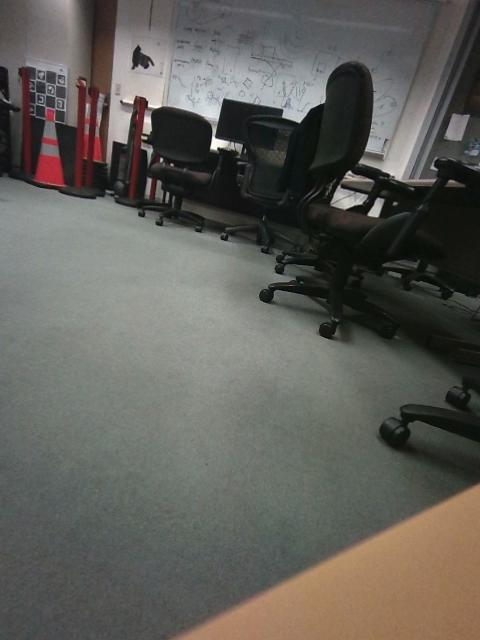block: (14, 285, 57, 354)
